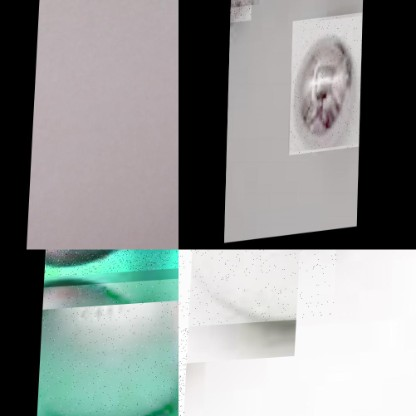ironball: (293, 26, 355, 151), (40, 277, 141, 307), (44, 249, 128, 266), (230, 0, 251, 23)
